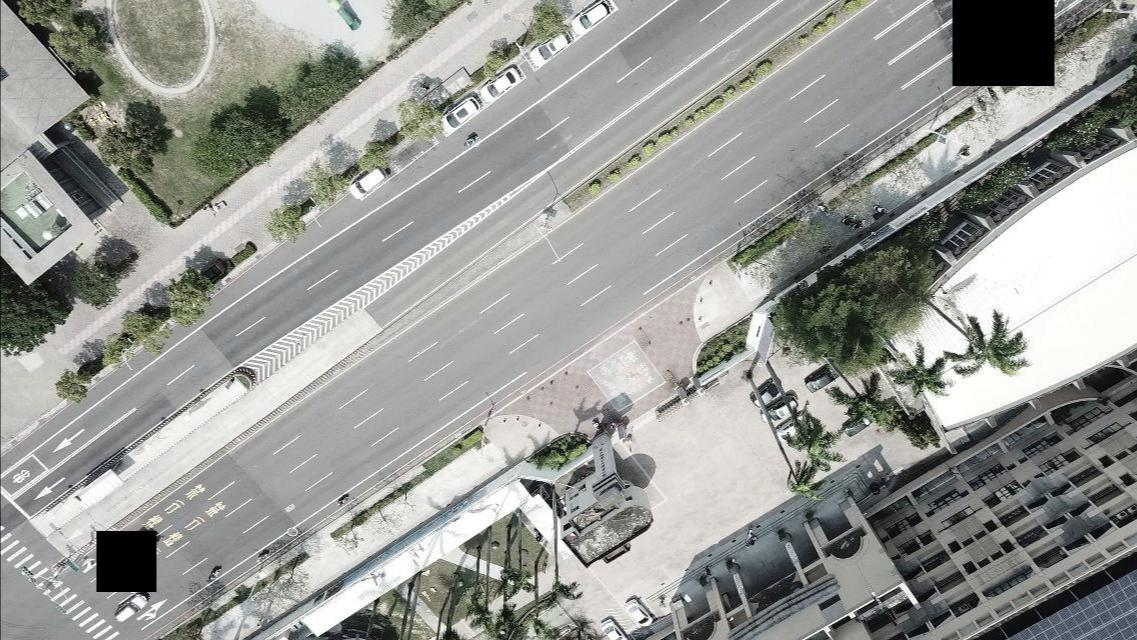vehicle: (525, 31, 566, 68), (438, 98, 480, 133), (481, 68, 521, 101), (114, 590, 154, 621), (762, 395, 800, 425), (572, 3, 611, 32), (774, 412, 808, 445), (804, 363, 842, 392), (350, 164, 383, 197), (841, 410, 878, 436), (750, 380, 780, 410), (625, 595, 652, 625), (599, 618, 627, 639)
